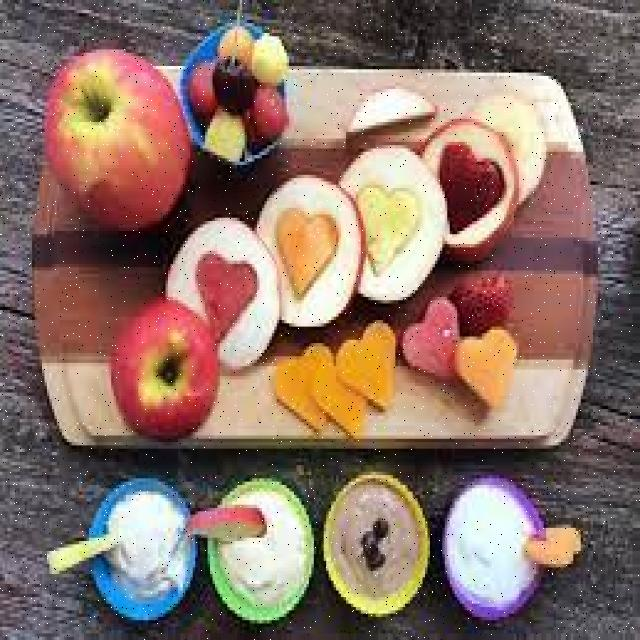Apple: (42, 57, 191, 225), (112, 300, 219, 436), (345, 83, 433, 135), (189, 504, 268, 546), (246, 92, 286, 139)
